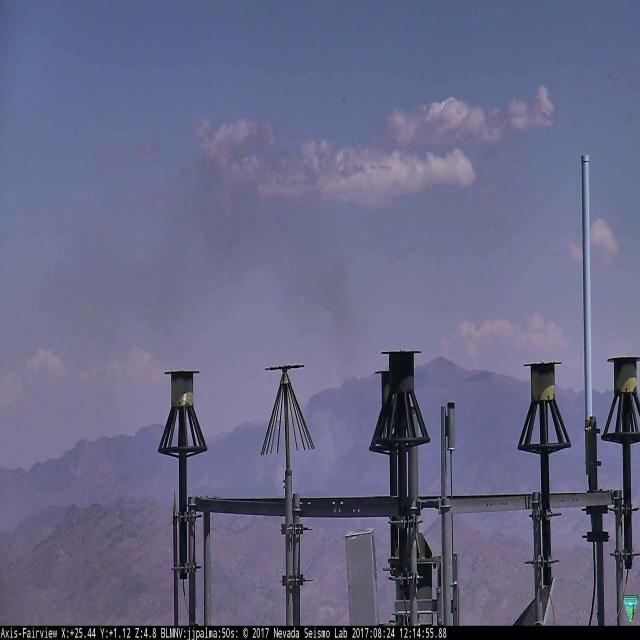smoke: (31, 157, 366, 387), (273, 389, 362, 488)
